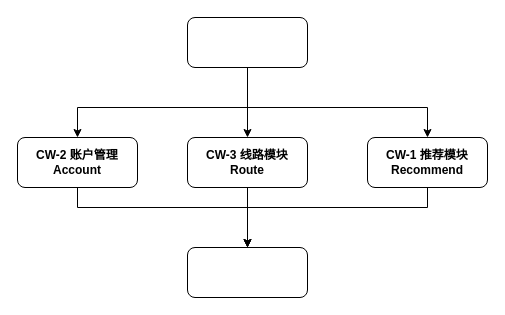
Some shapes in this 505 by 315 pixel diagram are drawn without their labels. Here are the shapes that lost their labels. From the top down, the centre of each, then its label:
At point (247, 42): "CW-1 界面 UI".
At point (247, 272): "CW-5 数据处理 Data".
